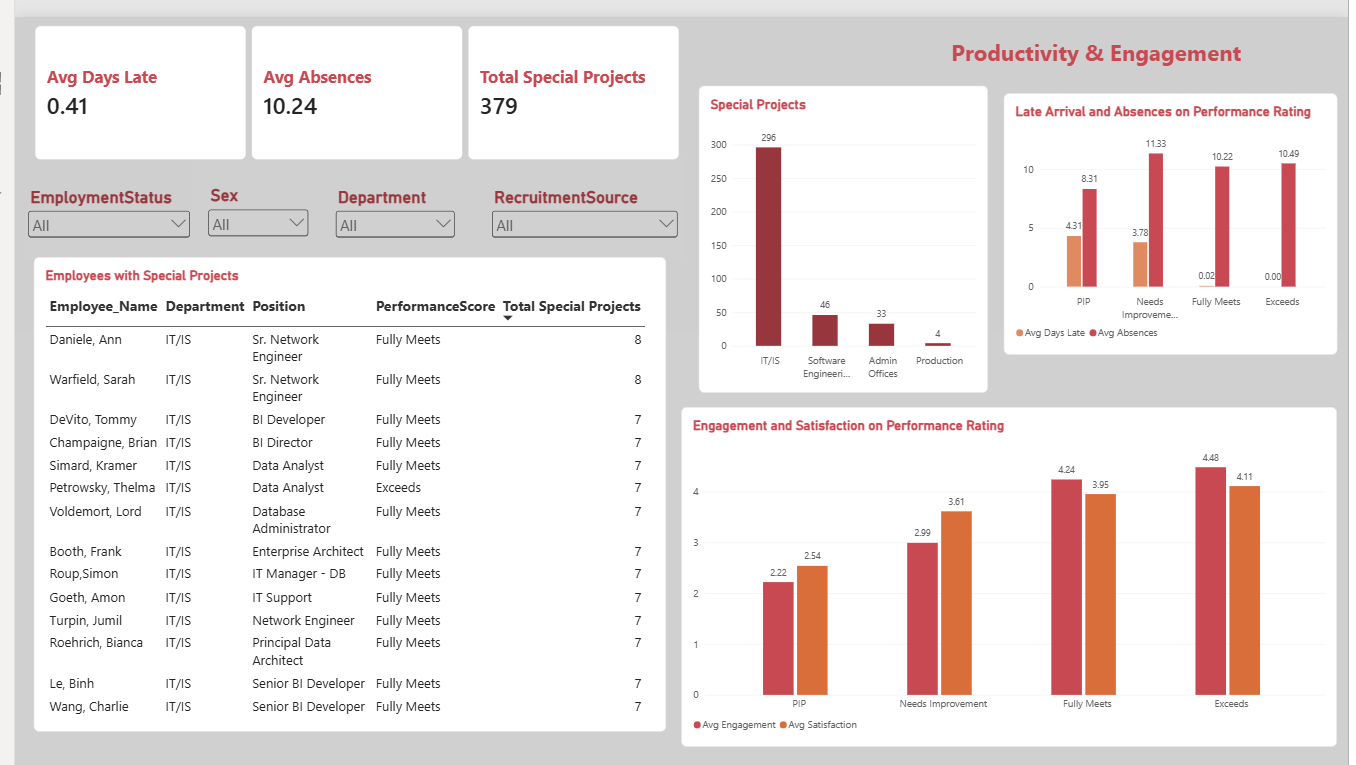

Layout of this report page (visuals, bound fields, positions):
{"tool":"powerbi","page":{"name":"Productivity & Engagement","canvas":[1920,1080],"ordinal":2},"visuals":[{"type":"textbox","box":[1348.3,29.7,444.8,68],"z":0},{"type":"slicer","fields":{"Values":["HR.Department"]},"box":[457,244.2,181.4,102.9],"z":1000},{"type":"slicer","fields":{"Values":["HR.EmploymentStatus"]},"box":[14,244.2,242.4,102.9],"z":2000},{"type":"slicer","fields":{"Values":["HR.Sex"]},"box":[273.8,242.4,153.5,104.7],"z":3000},{"type":"slicer","fields":{"Values":["HR.RecruitmentSource"]},"box":[682,244.2,277.3,102.9],"z":4000},{"type":"cardVisual","fields":{"Data":["HR.Avg Days Late","HR.Avg Absences","HR.Total Special Projects"]},"box":[29.7,12.2,929.7,193.6],"z":5000},{"type":"clusteredColumnChart","title":"Late Arrival and Absences on Performance Rating","fields":{"Category":["HR.PerformanceScore"],"Y":["HR.Avg Days Late","HR.Avg Absences"]},"box":[1424,109,480.9,376.4],"z":6000},{"type":"clusteredColumnChart","title":"Special Projects","fields":{"Category":["HR.Department"],"Y":["HR.Total Special Projects"]},"box":[985.7,98.4,416.9,442.6],"z":7000},{"type":"tableEx","title":"Employees with Special Projects","fields":{"Values":["HR.Employee_Name","HR.Department","HR.Position","Performance Rating.PerformanceScore","HR.Total Special Projects"]},"box":[27.8,346.4,910.8,684.2],"z":8000},{"type":"clusteredColumnChart","title":"Engagement and Satisfaction on Performance Rating","fields":{"Category":["Performance Rating.PerformanceScore"],"Y":["HR.Avg Engagement","HR.Avg Satisfaction"]},"box":[960,562.3,945,489.6],"z":8001}]}

Visuals, with their boxes in screenshot pixels (x1, y1, x2, y2), scaled from the page's 1920x1080 canvas onto the 1356x765 screenshot:
textbox: region(952, 21, 1266, 69)
slicer - HR.Department: region(323, 173, 451, 246)
slicer - HR.EmploymentStatus: region(10, 173, 181, 246)
slicer - HR.Sex: region(193, 172, 302, 246)
slicer - HR.RecruitmentSource: region(482, 173, 678, 246)
cardVisual - HR.Avg Days Late x HR.Avg Absences: region(21, 9, 678, 146)
"Late Arrival and Absences on Performance Rating" clusteredColumnChart: region(1006, 77, 1345, 344)
"Special Projects" clusteredColumnChart: region(696, 70, 991, 383)
"Employees with Special Projects" tableEx: region(20, 245, 663, 730)
"Engagement and Satisfaction on Performance Rating" clusteredColumnChart: region(678, 398, 1345, 745)
